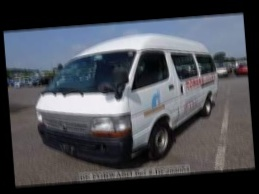van: (30, 26, 227, 171)
